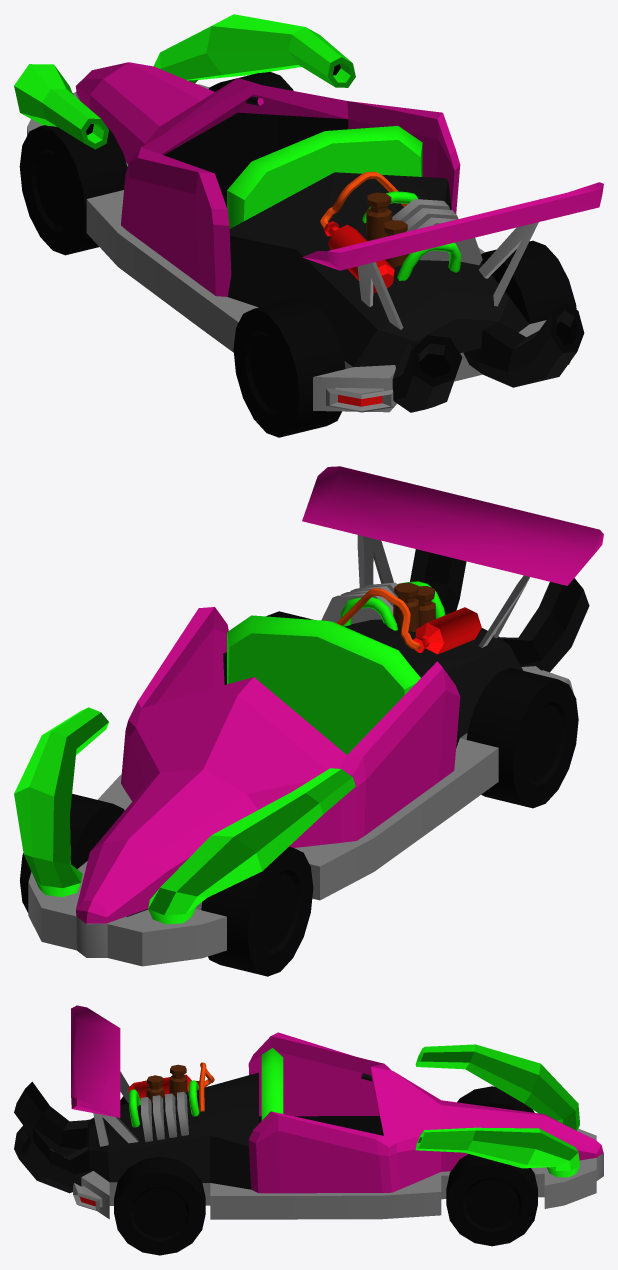
File: car-parsche-sport-green_4.fbx
3 views of the same model, one above another, from view 1: azimuth 30°, elevation 25°; view 2: azimuth 150°, elevation 25°; view 3: azimuth 270°, elevation 25° (orthographic). The views are drawn at different scales.
Visible parts, largest first — view 1: car-parsche-sport-green_4, wheel_3, wheel_1, wheel_4, wheel_2; view 2: car-parsche-sport-green_4, wheel_3, wheel_1, wheel_2; view 3: car-parsche-sport-green_4, wheel_4, wheel_2, wheel_1.
Part boxes in pixels (box(x1,y1,x2,y2)): car-parsche-sport-green_4: box(14, 14, 603, 412); wheel_3: box(233, 297, 345, 437); wheel_1: box(19, 125, 127, 255); wheel_4: box(481, 240, 576, 364); wheel_2: box(209, 71, 293, 91); car-parsche-sport-green_4: box(14, 466, 603, 966); wheel_3: box(466, 668, 578, 808); wheel_1: box(201, 846, 313, 976); wheel_2: box(20, 793, 124, 912); car-parsche-sport-green_4: box(14, 1005, 603, 1219); wheel_4: box(114, 1156, 205, 1255); wheel_2: box(446, 1154, 537, 1246); wheel_1: box(457, 1086, 534, 1112).
Bounding box in the file's own units: 1.04 × 2.73 × 0.797.
